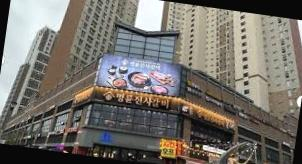galbi: (152, 96, 172, 112)
